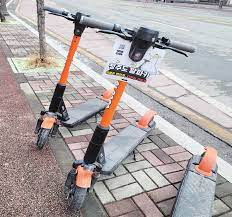kick_handler: (81, 18, 196, 57), (43, 5, 109, 31)
kick_wheel: (68, 163, 93, 210), (36, 112, 57, 149), (142, 112, 156, 133)
